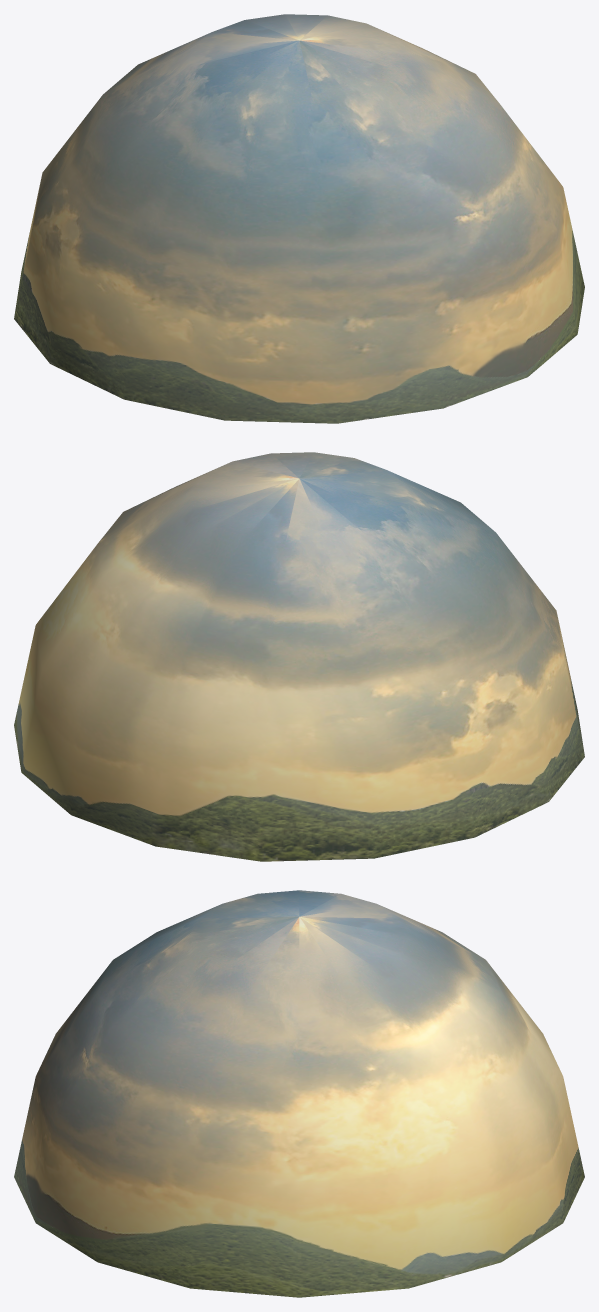
The model's file is Skybox _shandi_003.FBX.
3 views of the same model, one above another, from view 1: azimuth 30°, elevation 25°; view 2: azimuth 150°, elevation 25°; view 3: azimuth 270°, elevation 25° (orthographic).
Visible parts, largest first — view 1: Skybox _shandi_003; view 2: Skybox _shandi_003; view 3: Skybox _shandi_003.
Boxes of the visible parts, x1,y1,x2,y2 form: Skybox _shandi_003: (14, 14, 584, 423); Skybox _shandi_003: (14, 452, 584, 861); Skybox _shandi_003: (14, 890, 584, 1297).
Bounding box in the file's own units: 50800 × 25558 × 50800.
1 material, 1 textured.
